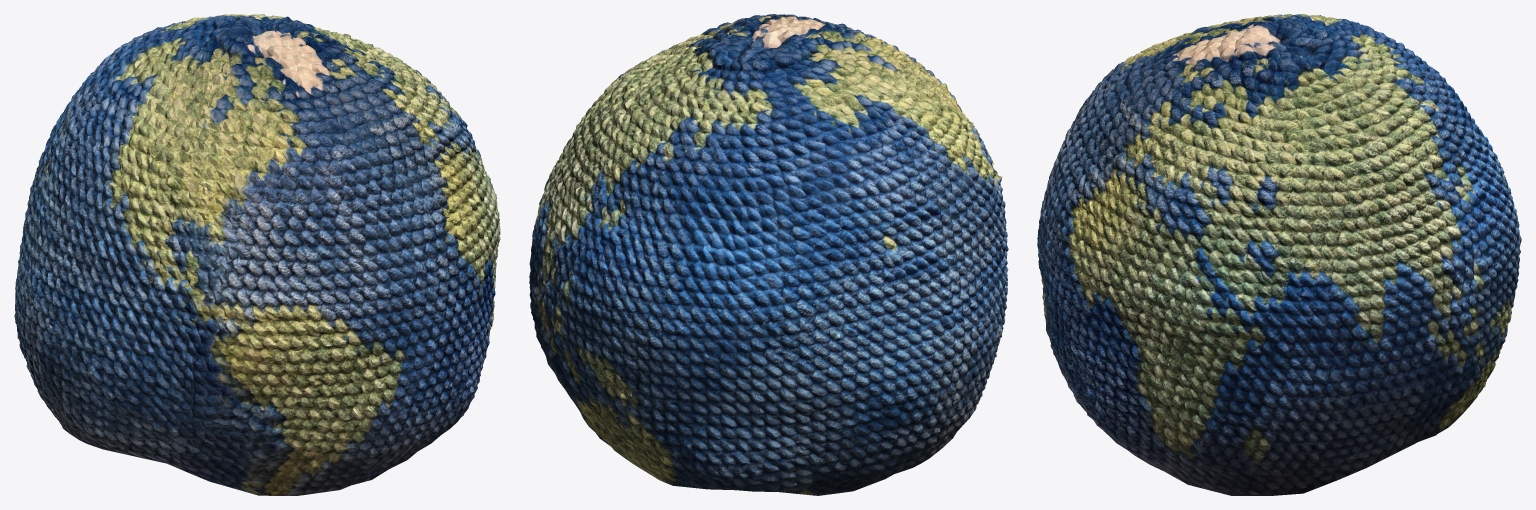
File: crochet3d.glb
3 views of the same model, side by side, from view 1: azimuth 30°, elevation 25°; view 2: azimuth 150°, elevation 25°; view 3: azimuth 270°, elevation 25° (orthographic). The views are drawn at different scales.
Size of the model in its own units: 0.6708 by 0.6204 by 0.6856.
Materials: 1 (1 with a texture image).
